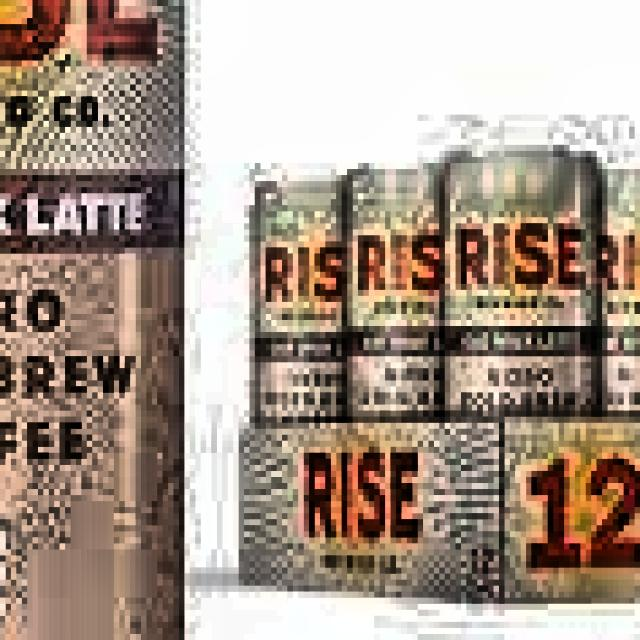metal: (0, 0, 206, 640), (432, 139, 600, 416), (339, 145, 458, 423), (244, 157, 353, 429), (586, 145, 640, 417)
